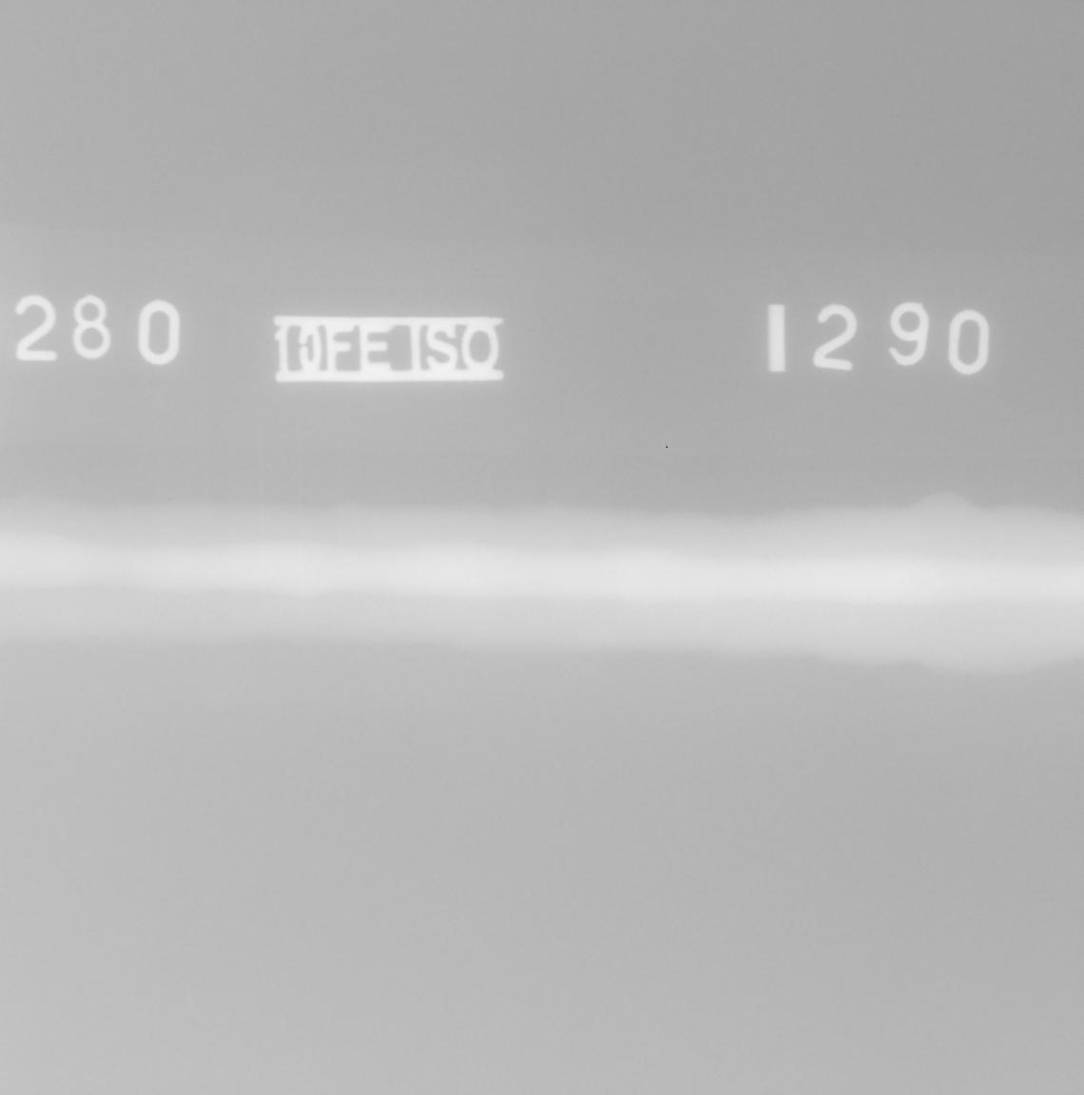Pore/Porosity: (763, 555, 770, 559), (464, 579, 470, 583)
